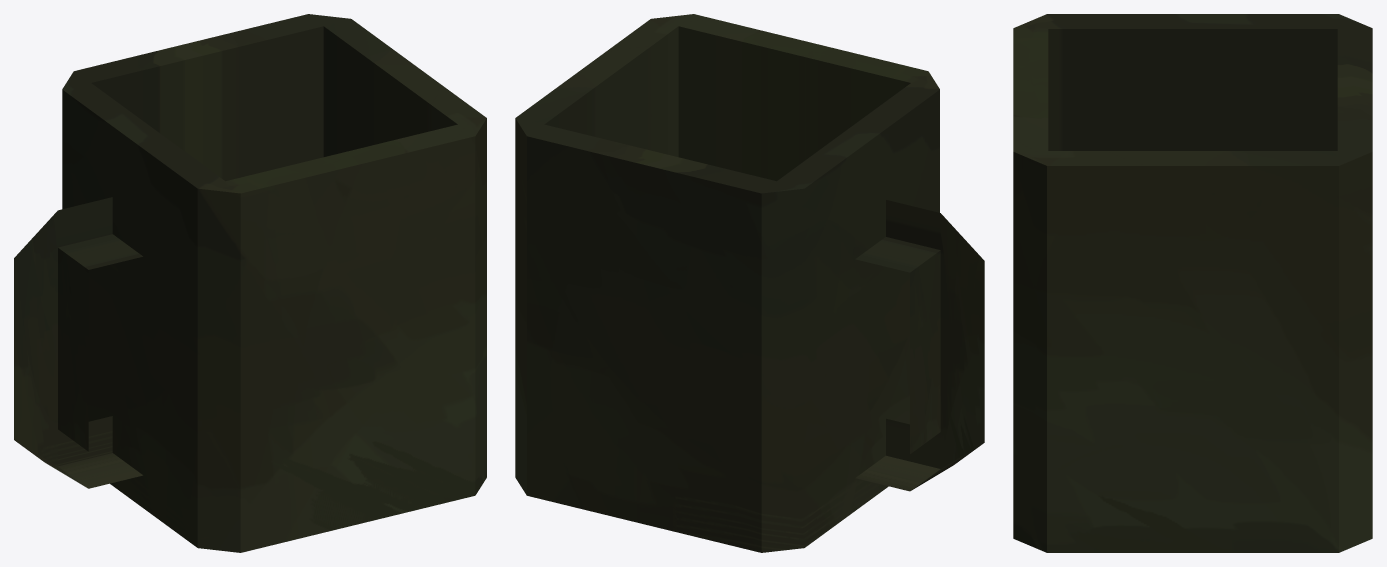
Rendered from M-Cup.fbx.
3 renders of one model, left to right at view 1: azimuth 30°, elevation 25°; view 2: azimuth 150°, elevation 25°; view 3: azimuth 270°, elevation 25°, orthographic. The views are drawn at different scales.
Visible parts, largest first — view 1: Cube; view 2: Cube; view 3: Cube.
Part boxes in pixels (x1,y1,x2,y2): Cube: (14, 14, 486, 552); Cube: (515, 14, 984, 552); Cube: (1013, 14, 1372, 552).
Bounding box in the file's own units: 10.73 × 8 × 9.5.
Materials: 2 (2 with a texture image).
